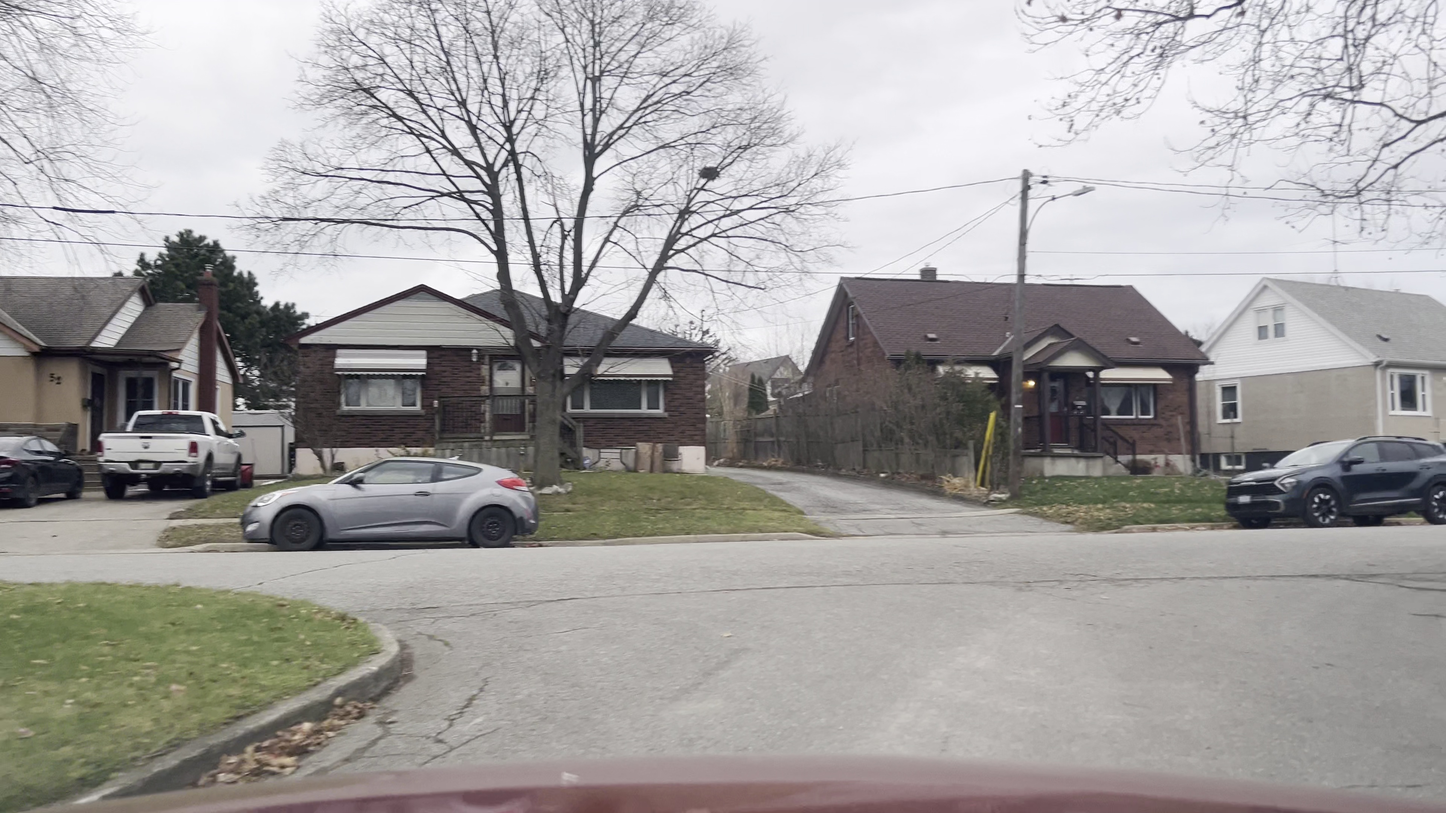cracks: (1260, 560, 1443, 601)
